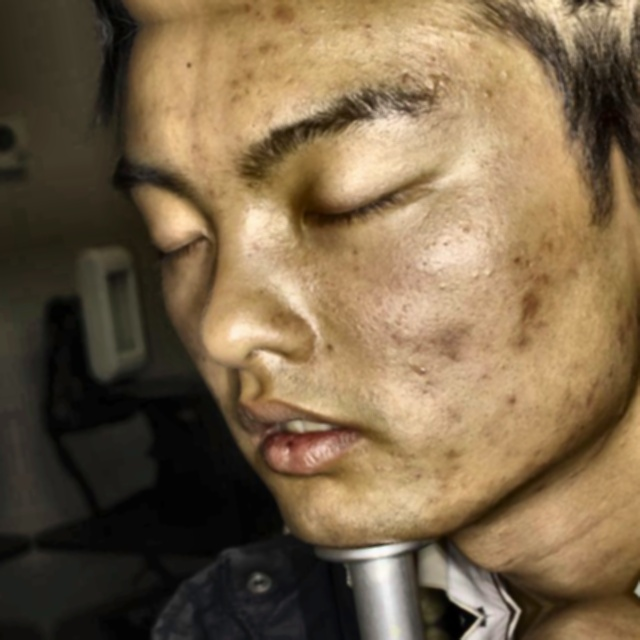comedone: (435, 443, 475, 477), (507, 324, 538, 365), (518, 286, 548, 320)
